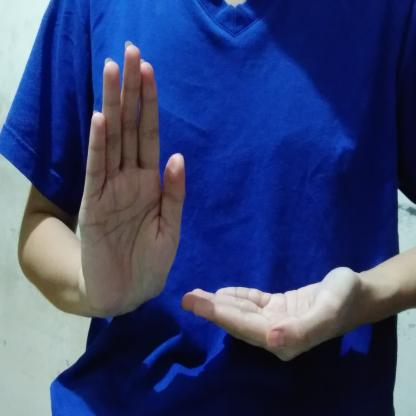hello: (69, 36, 375, 365)
